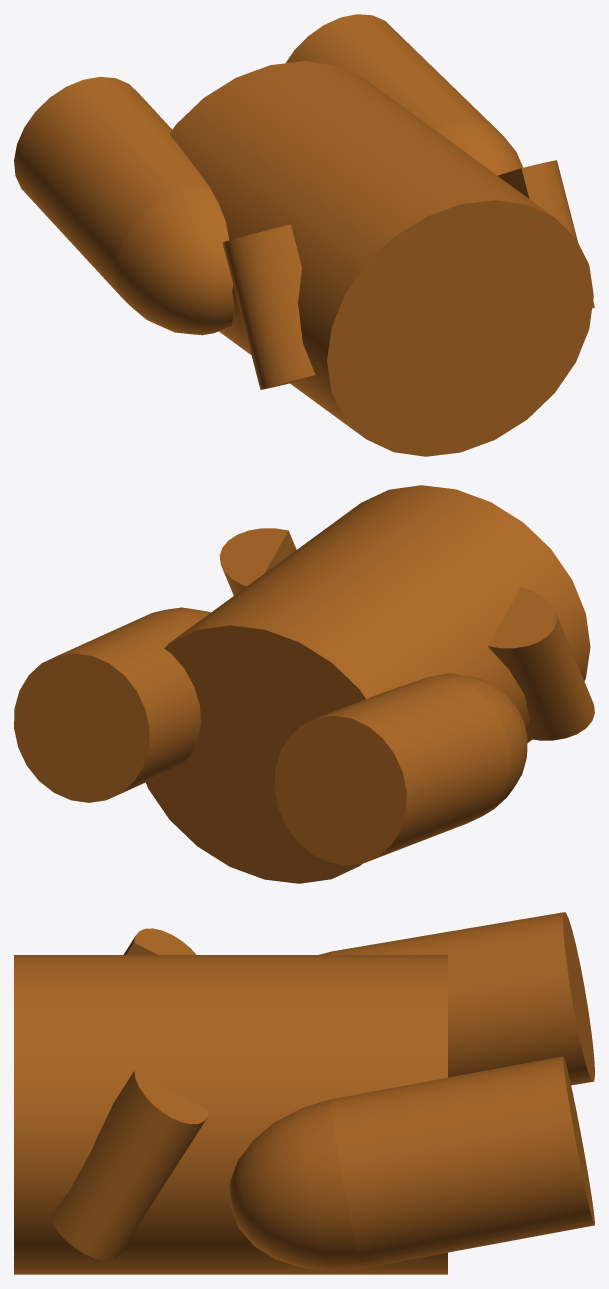
The model's file is turkey.fbx.
3 views of the same model, one above another, from view 1: azimuth 30°, elevation 25°; view 2: azimuth 150°, elevation 25°; view 3: azimuth 270°, elevation 25° (orthographic). The views are drawn at different scales.
Visible parts, largest first — view 1: cylinder (×3), sphere_half (×2), cylinder_half (×2); view 2: cylinder (×3), cylinder_half (×2), sphere_half; view 3: cylinder (×3), cylinder_half (×2), sphere_half.
Boxes of the visible parts, x1,y1,x2,y2 form: cylinder (×3): (14,14,593,456); sphere_half (×2): (115,120,522,335); cylinder_half (×2): (222,160,594,389); cylinder (×3): (14,485,590,883); cylinder_half (×2): (219,528,594,740); sphere_half: (431,673,527,815); cylinder (×3): (14,912,594,1274); cylinder_half (×2): (49,928,208,1260); sphere_half: (230,1099,361,1270).
Size of the model in its own units: 12.04 by 7.2 by 13.38.
